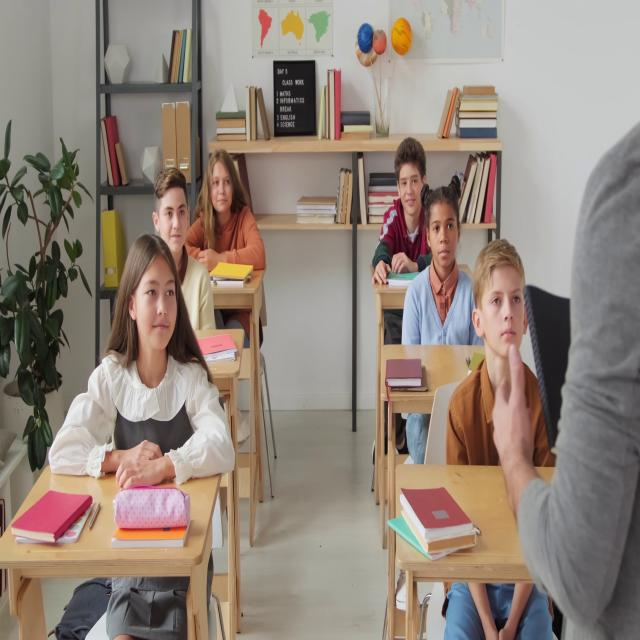listening: (45, 236, 236, 634), (443, 244, 552, 464), (188, 150, 267, 450), (404, 184, 478, 352), (152, 165, 219, 331), (369, 136, 429, 285)
